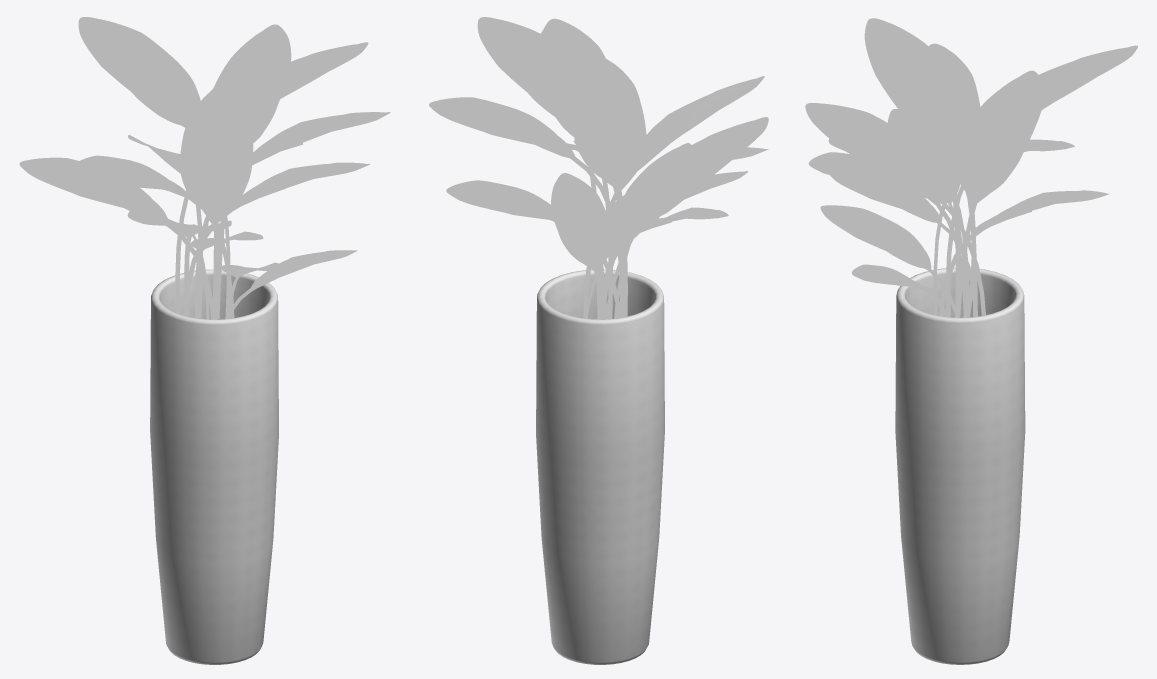
File: SM_Plant_03.fbx
3 renders of one model, left to right at view 1: azimuth 30°, elevation 25°; view 2: azimuth 150°, elevation 25°; view 3: azimuth 270°, elevation 25°, orthographic.
Visible parts, largest first — view 1: SM_Plant_03; view 2: SM_Plant_03; view 3: SM_Plant_03.
Boxes of the visible parts, <box> form: SM_Plant_03: <box>19,17,390,664</box>; SM_Plant_03: <box>429,17,768,664</box>; SM_Plant_03: <box>805,18,1137,664</box>.
Bounding box in the file's own units: 86.91 × 159 × 83.8.
